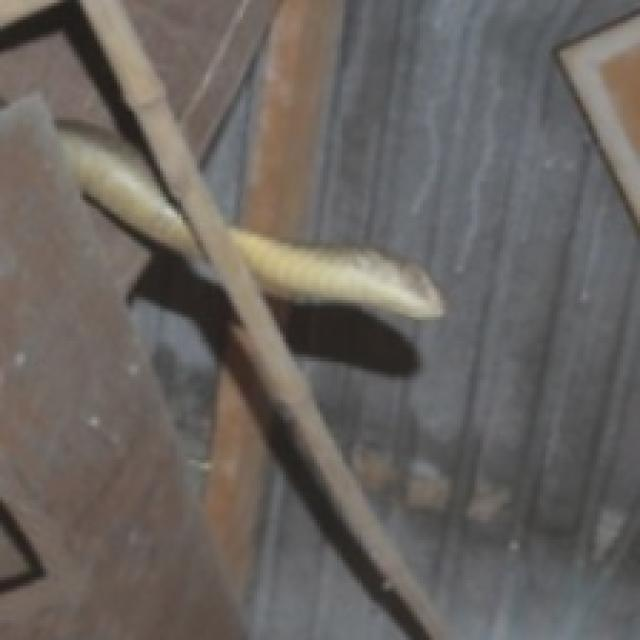king cobra: (60, 126, 206, 274), (229, 226, 443, 317)
